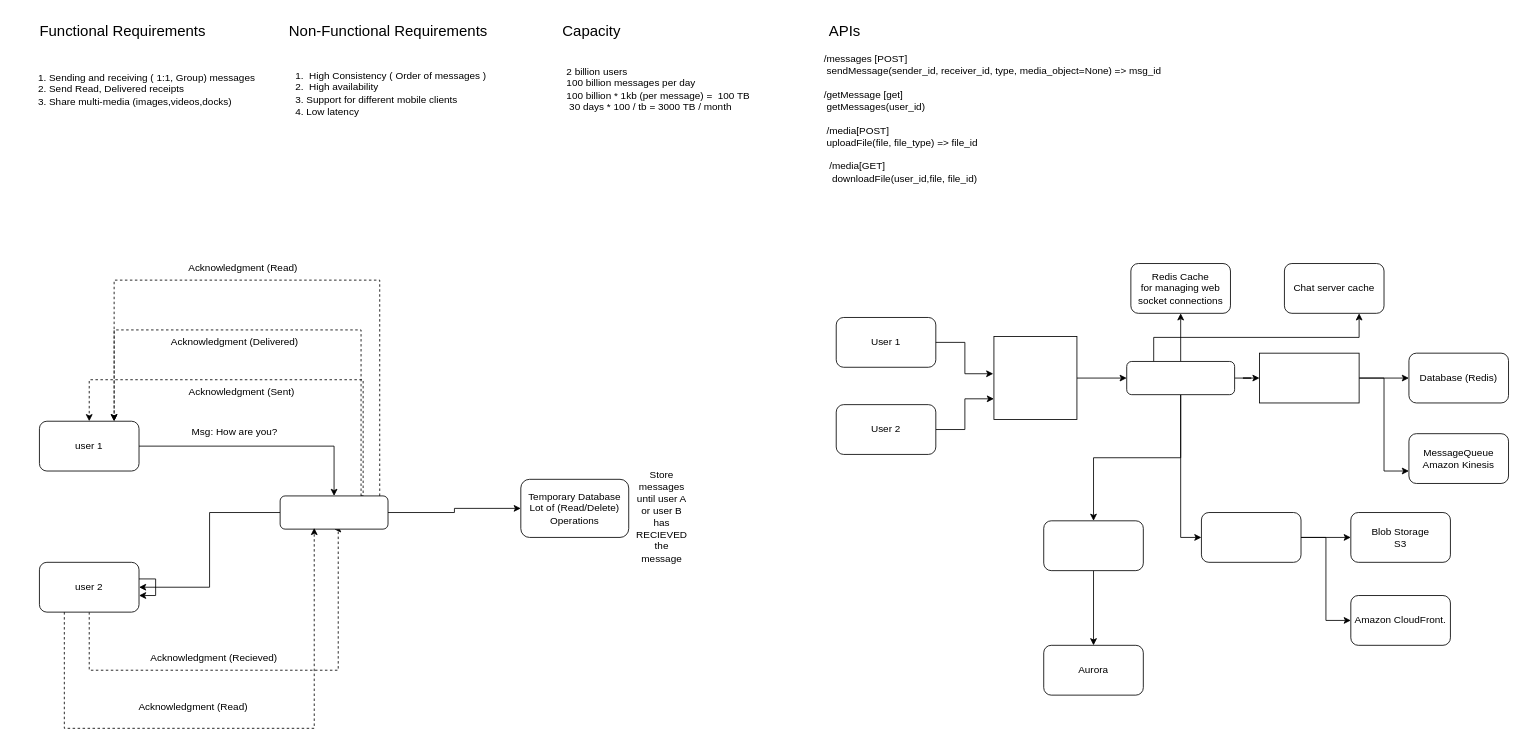
Image size: 1523x749. Some labels were removed from this diagram. The shapes that lost their labels are listed below. From the top down, each one's box as (x1, y1, x2, y2) in pixels, then its label:
(993, 336, 1077, 420): Load Balancer
(1126, 361, 1235, 395): Web Socket Chat Server
(1259, 352, 1359, 403): Message Service
(279, 495, 388, 529): chat server
(1043, 520, 1143, 571): User service
(1201, 512, 1301, 562): Media Service
